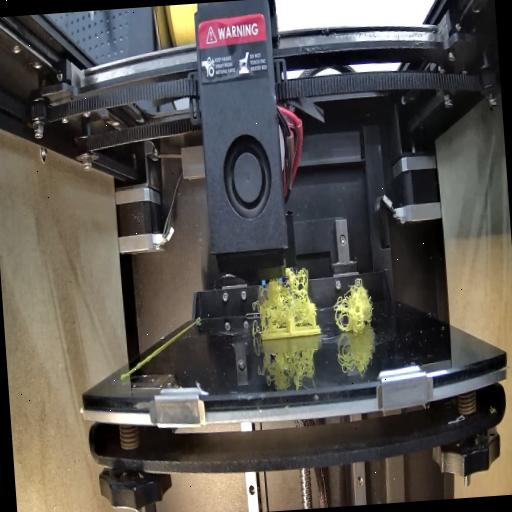spaghetti: (256, 268, 318, 330), (332, 270, 376, 333)
